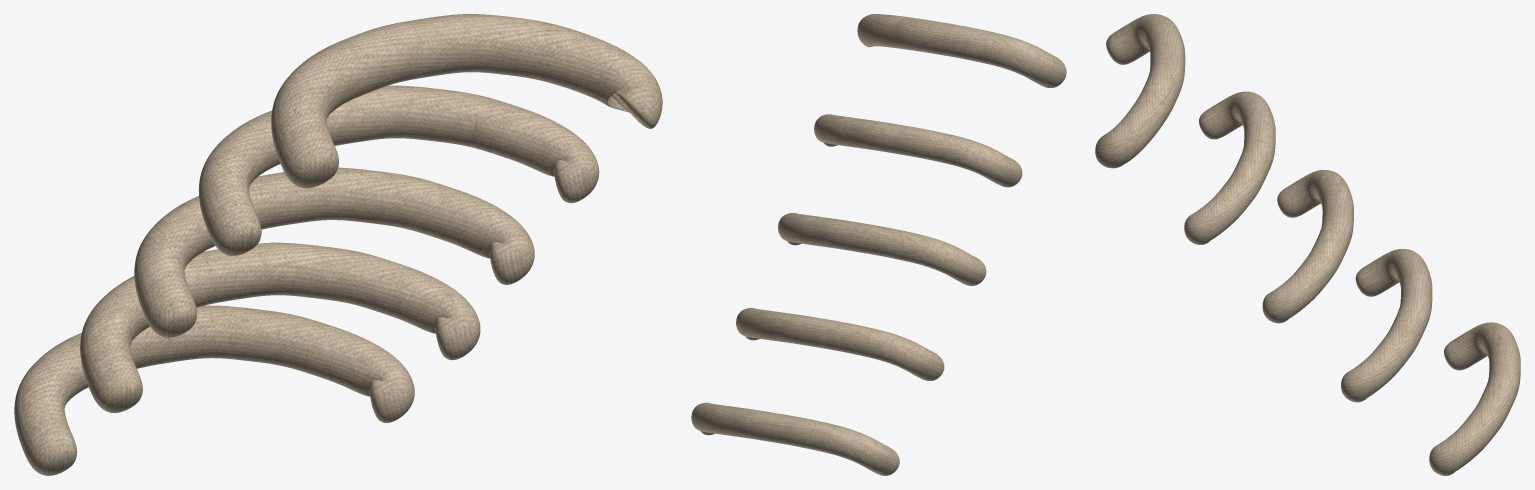
Rendered from laces.glb.
3 renders of one model, left to right at view 1: azimuth 30°, elevation 25°; view 2: azimuth 150°, elevation 25°; view 3: azimuth 270°, elevation 25°, orthographic. The views are drawn at different scales.
Visible parts, largest first — view 1: Laces.002; view 2: Laces.002; view 3: Laces.002.
Boxes of the visible parts, bbox=[...] form: Laces.002: bbox=[14, 14, 662, 475]; Laces.002: bbox=[691, 14, 1066, 475]; Laces.002: bbox=[1095, 14, 1520, 475].
Bounding box in the file's own units: 0.0453 × 0.0677 × 0.0701.
Materials: 1 (1 with a texture image).
